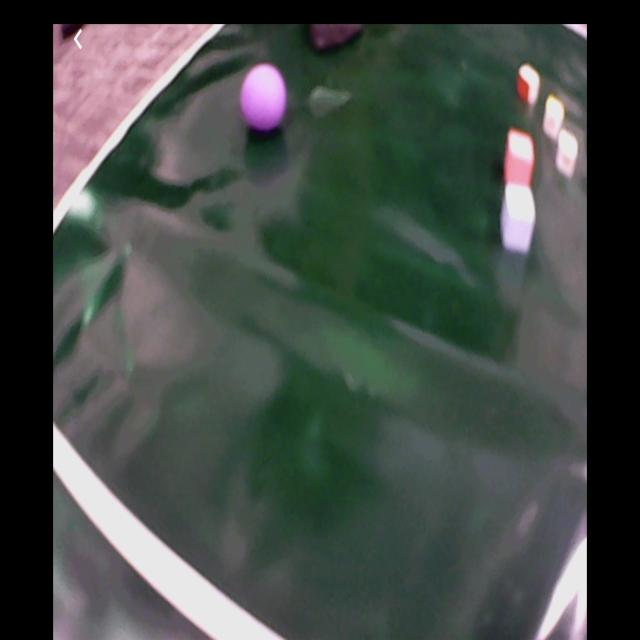ball: (242, 64, 288, 131)
